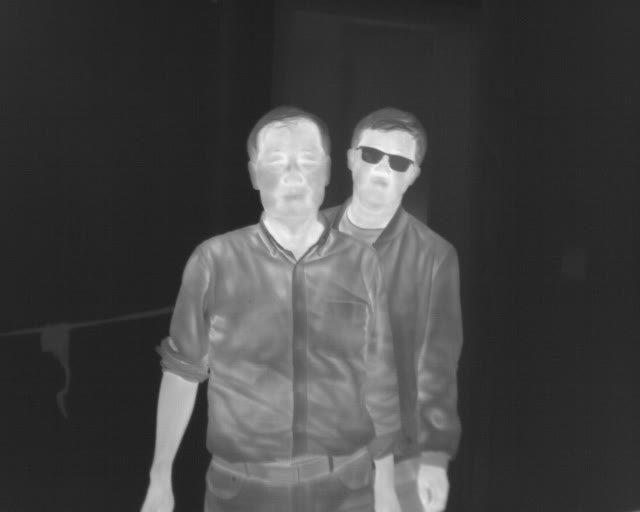face: (246, 104, 334, 224), (346, 106, 426, 207)
